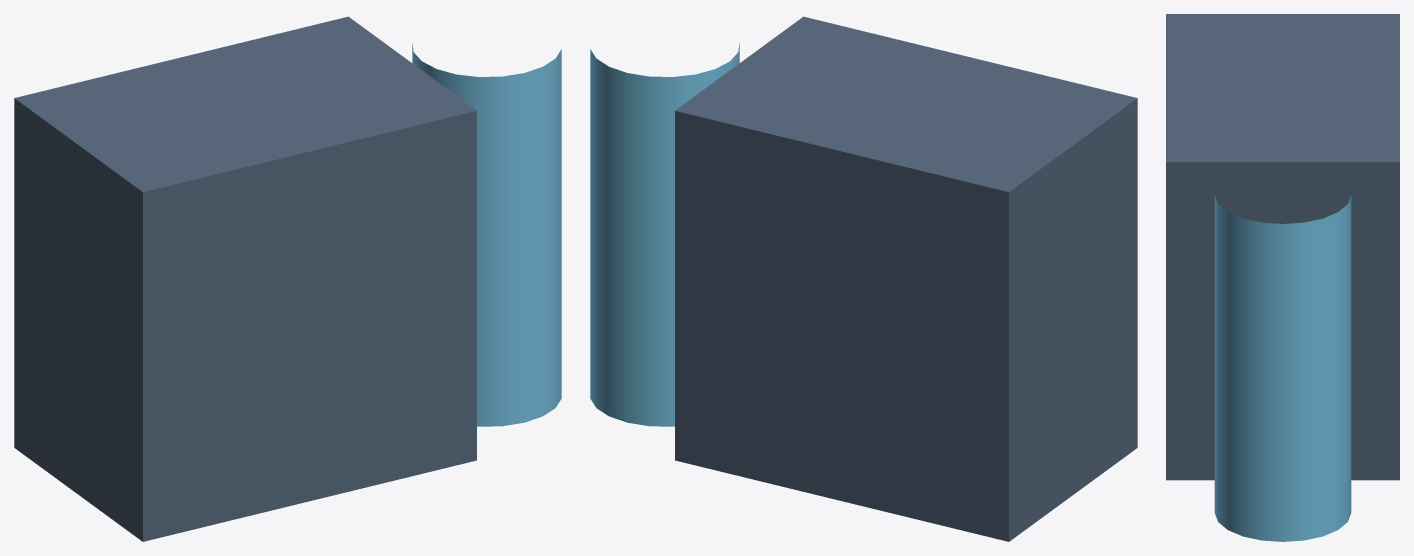
Rendered from switchgear_protection.glb.
The picture shows the model from 3 angles, left to right: view 1: azimuth 30°, elevation 25°; view 2: azimuth 150°, elevation 25°; view 3: azimuth 270°, elevation 25°; orthographic projection. The views are drawn at different scales.
Visible parts, largest first — view 1: IDMTRelayChamber, SF6CircuitBreakerPillar; view 2: IDMTRelayChamber, SF6CircuitBreakerPillar; view 3: IDMTRelayChamber, SF6CircuitBreakerPillar.
Boxes of the visible parts, x1,y1,x2,y2 form: IDMTRelayChamber: (14,16,476,541); SF6CircuitBreakerPillar: (412,43,561,426); IDMTRelayChamber: (675,16,1137,541); SF6CircuitBreakerPillar: (590,43,739,426); IDMTRelayChamber: (1166,14,1399,480); SF6CircuitBreakerPillar: (1214,195,1351,541).
Size of the model in its own units: 2.55 by 1.8 by 1.2.
